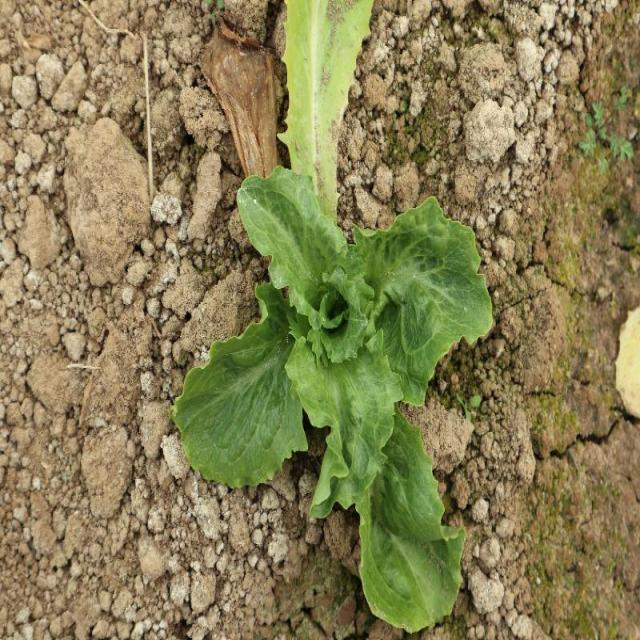crop: (174, 168, 496, 630)
